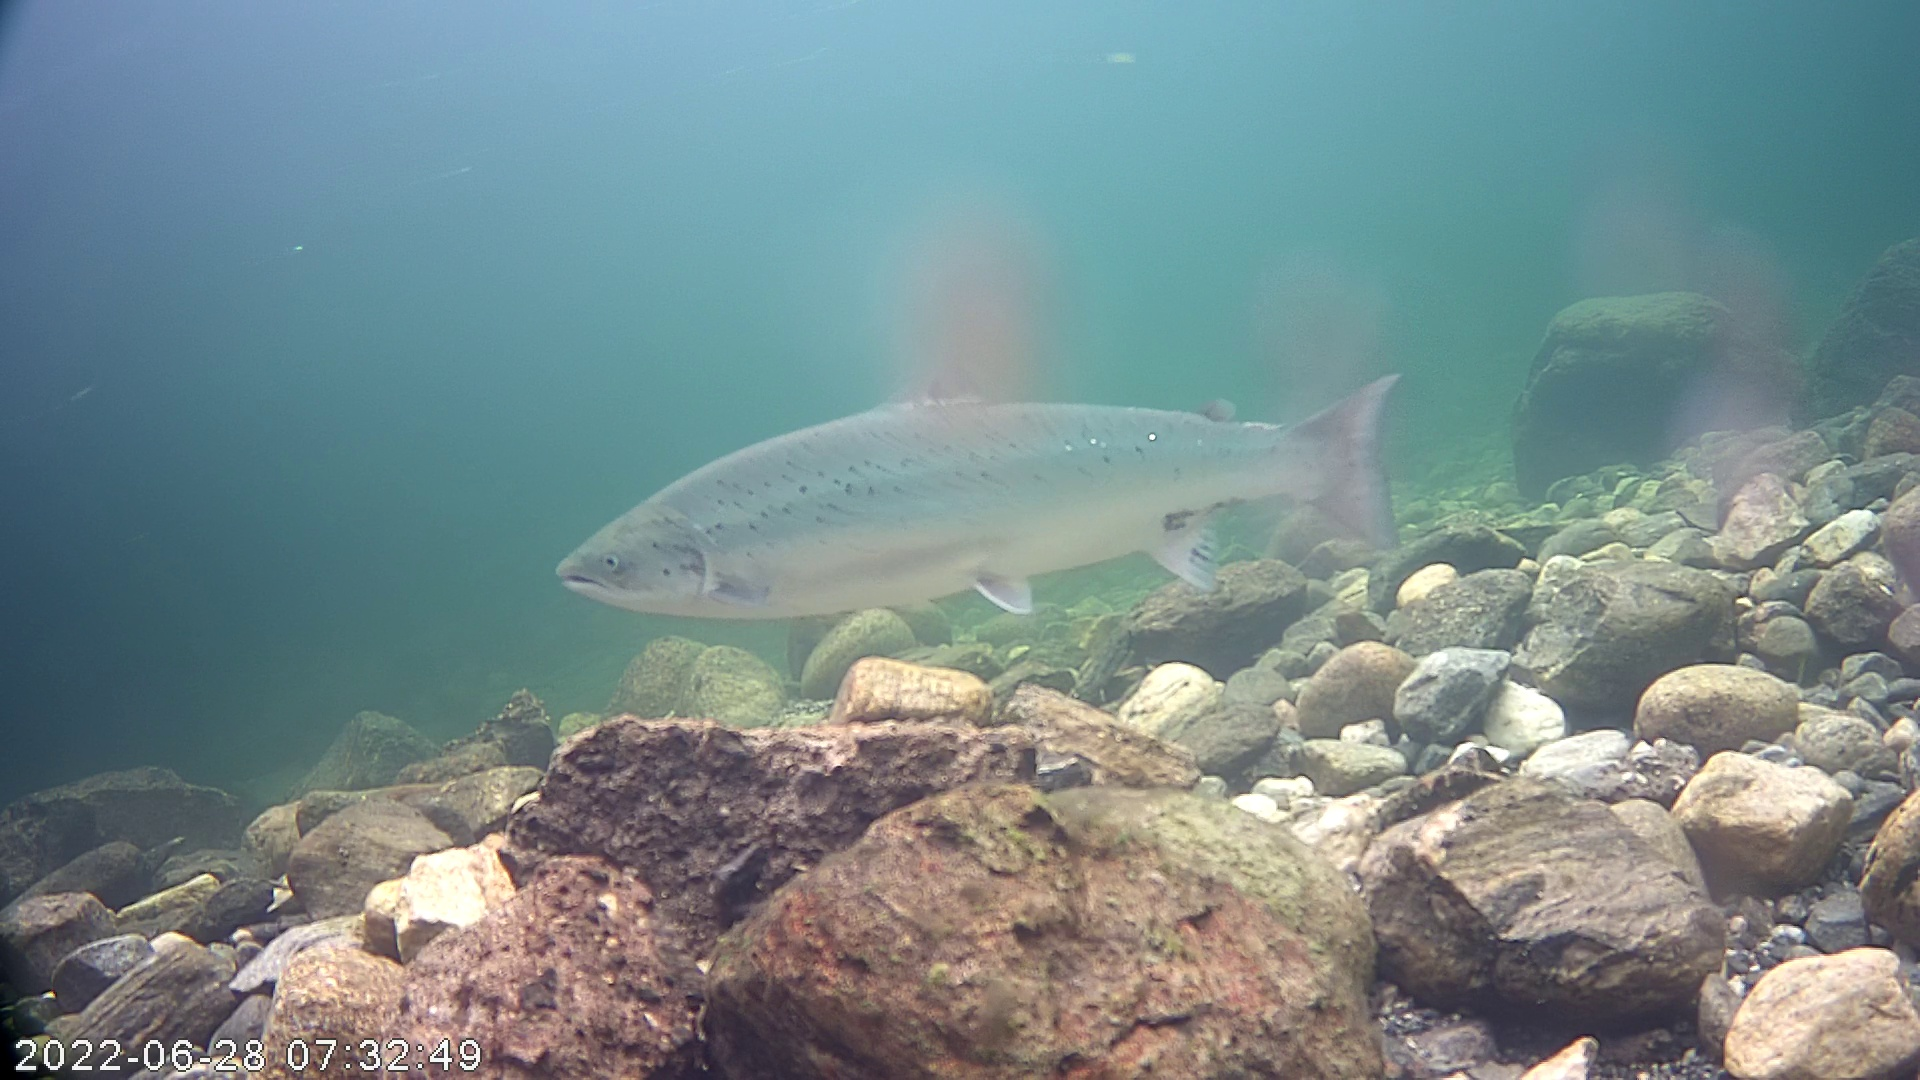salmon: (545, 225, 1433, 675)
